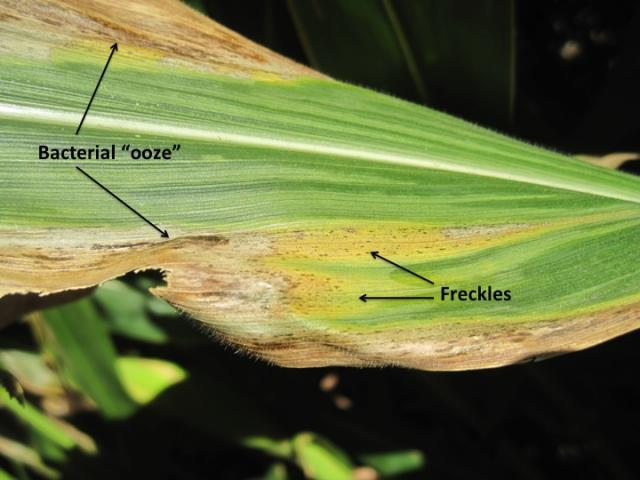Corn leaf blight: (4, 4, 640, 360)
